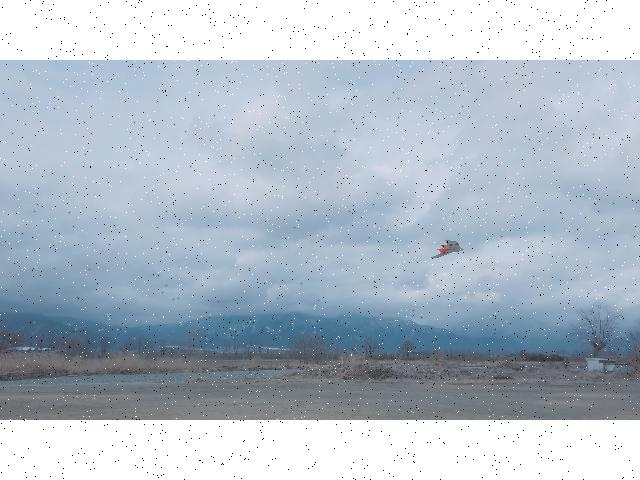Anti-Drone: (430, 238, 464, 260)
